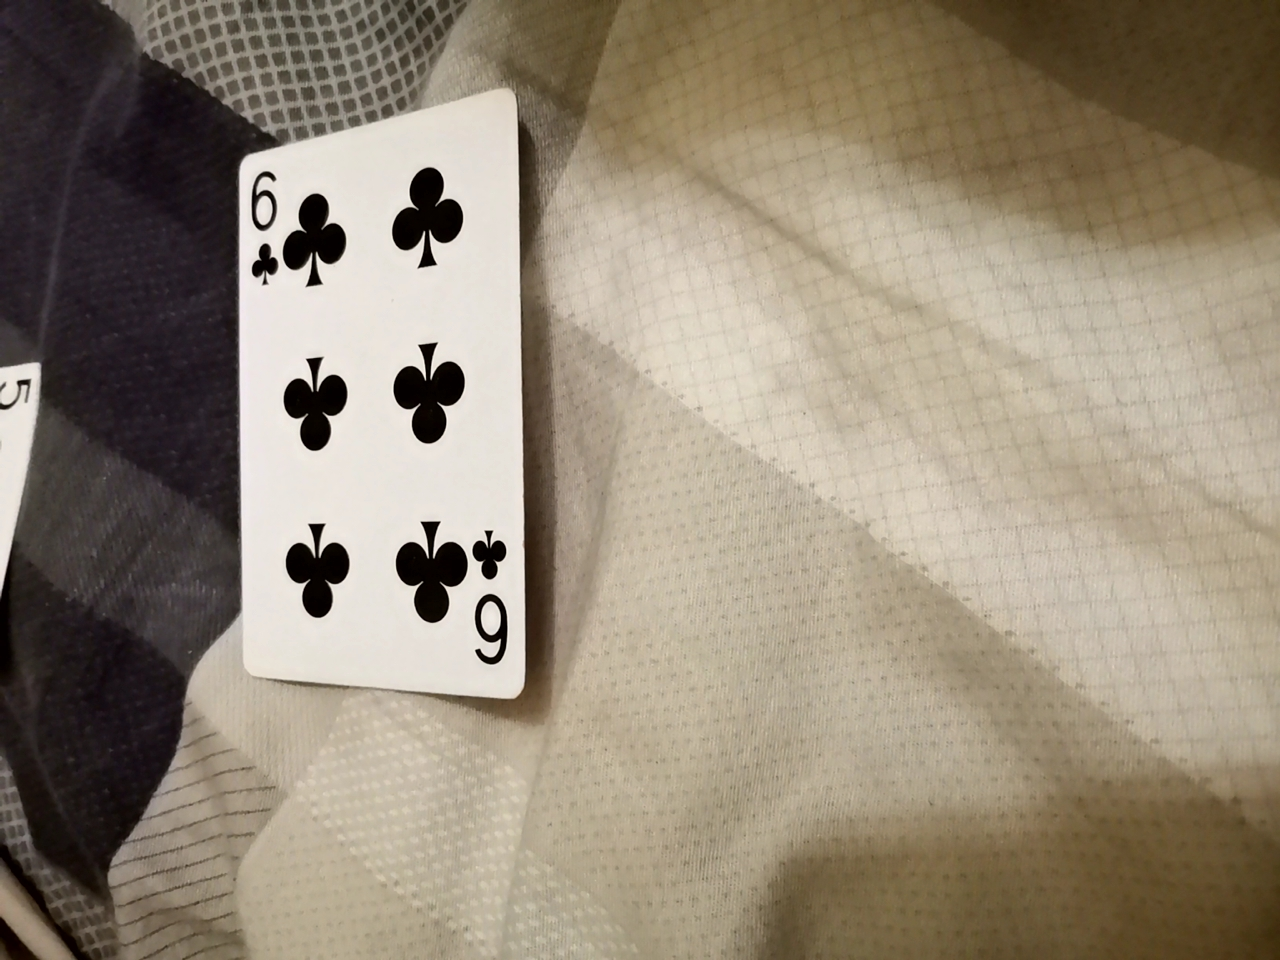mh 6: (228, 93, 553, 716)
